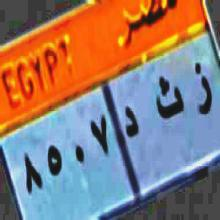0: (71, 130, 86, 177)
5: (46, 142, 62, 183)
7: (88, 111, 109, 162)
8: (24, 155, 42, 201)
daal: (122, 101, 138, 144)
thaa: (154, 73, 186, 126)
zay: (192, 56, 212, 120)
